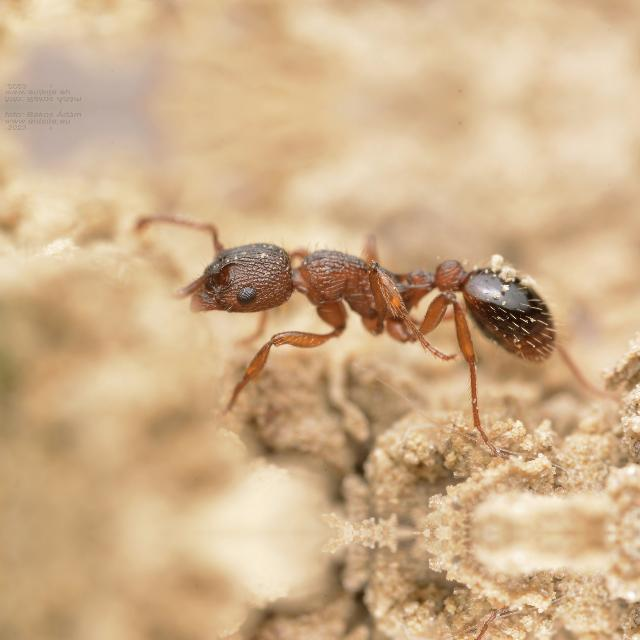Myrmica: (143, 198, 602, 396)
